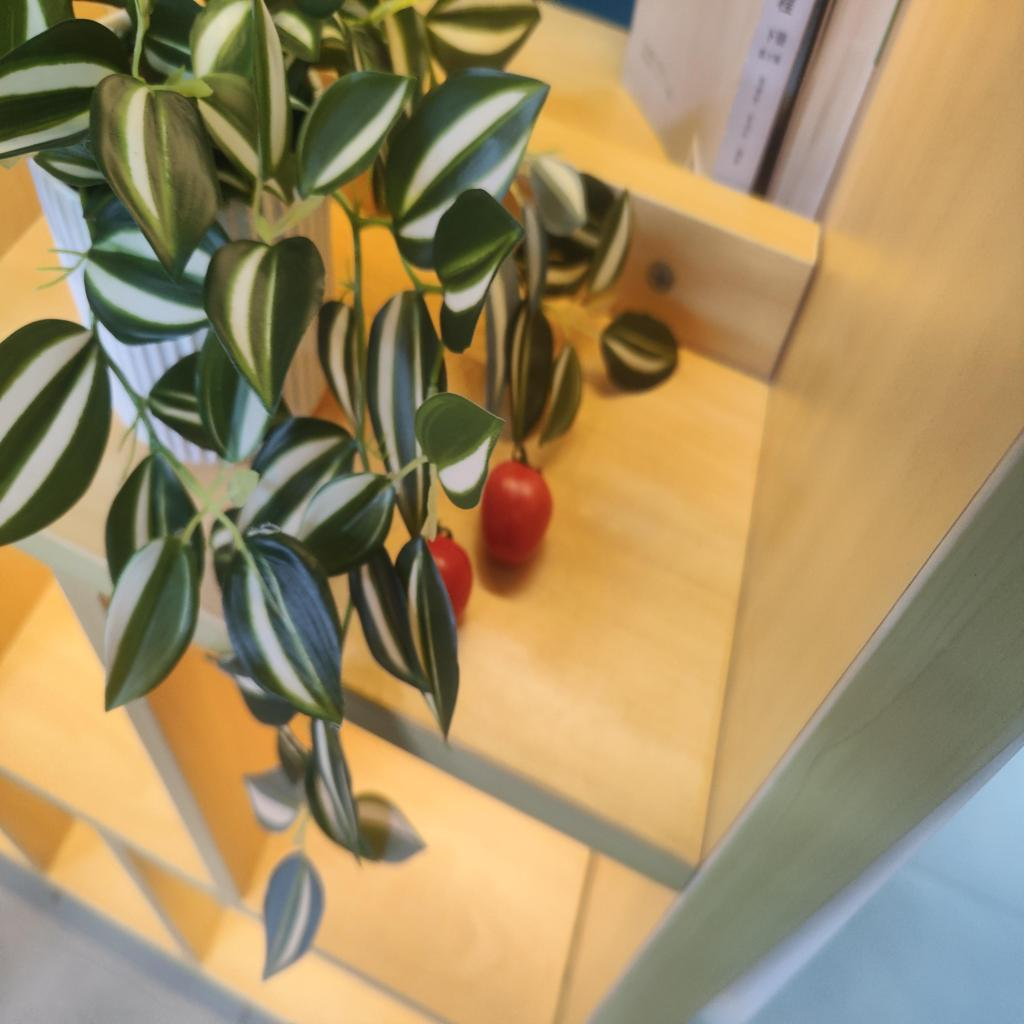tomato: (489, 465, 553, 562), (418, 526, 475, 622)
